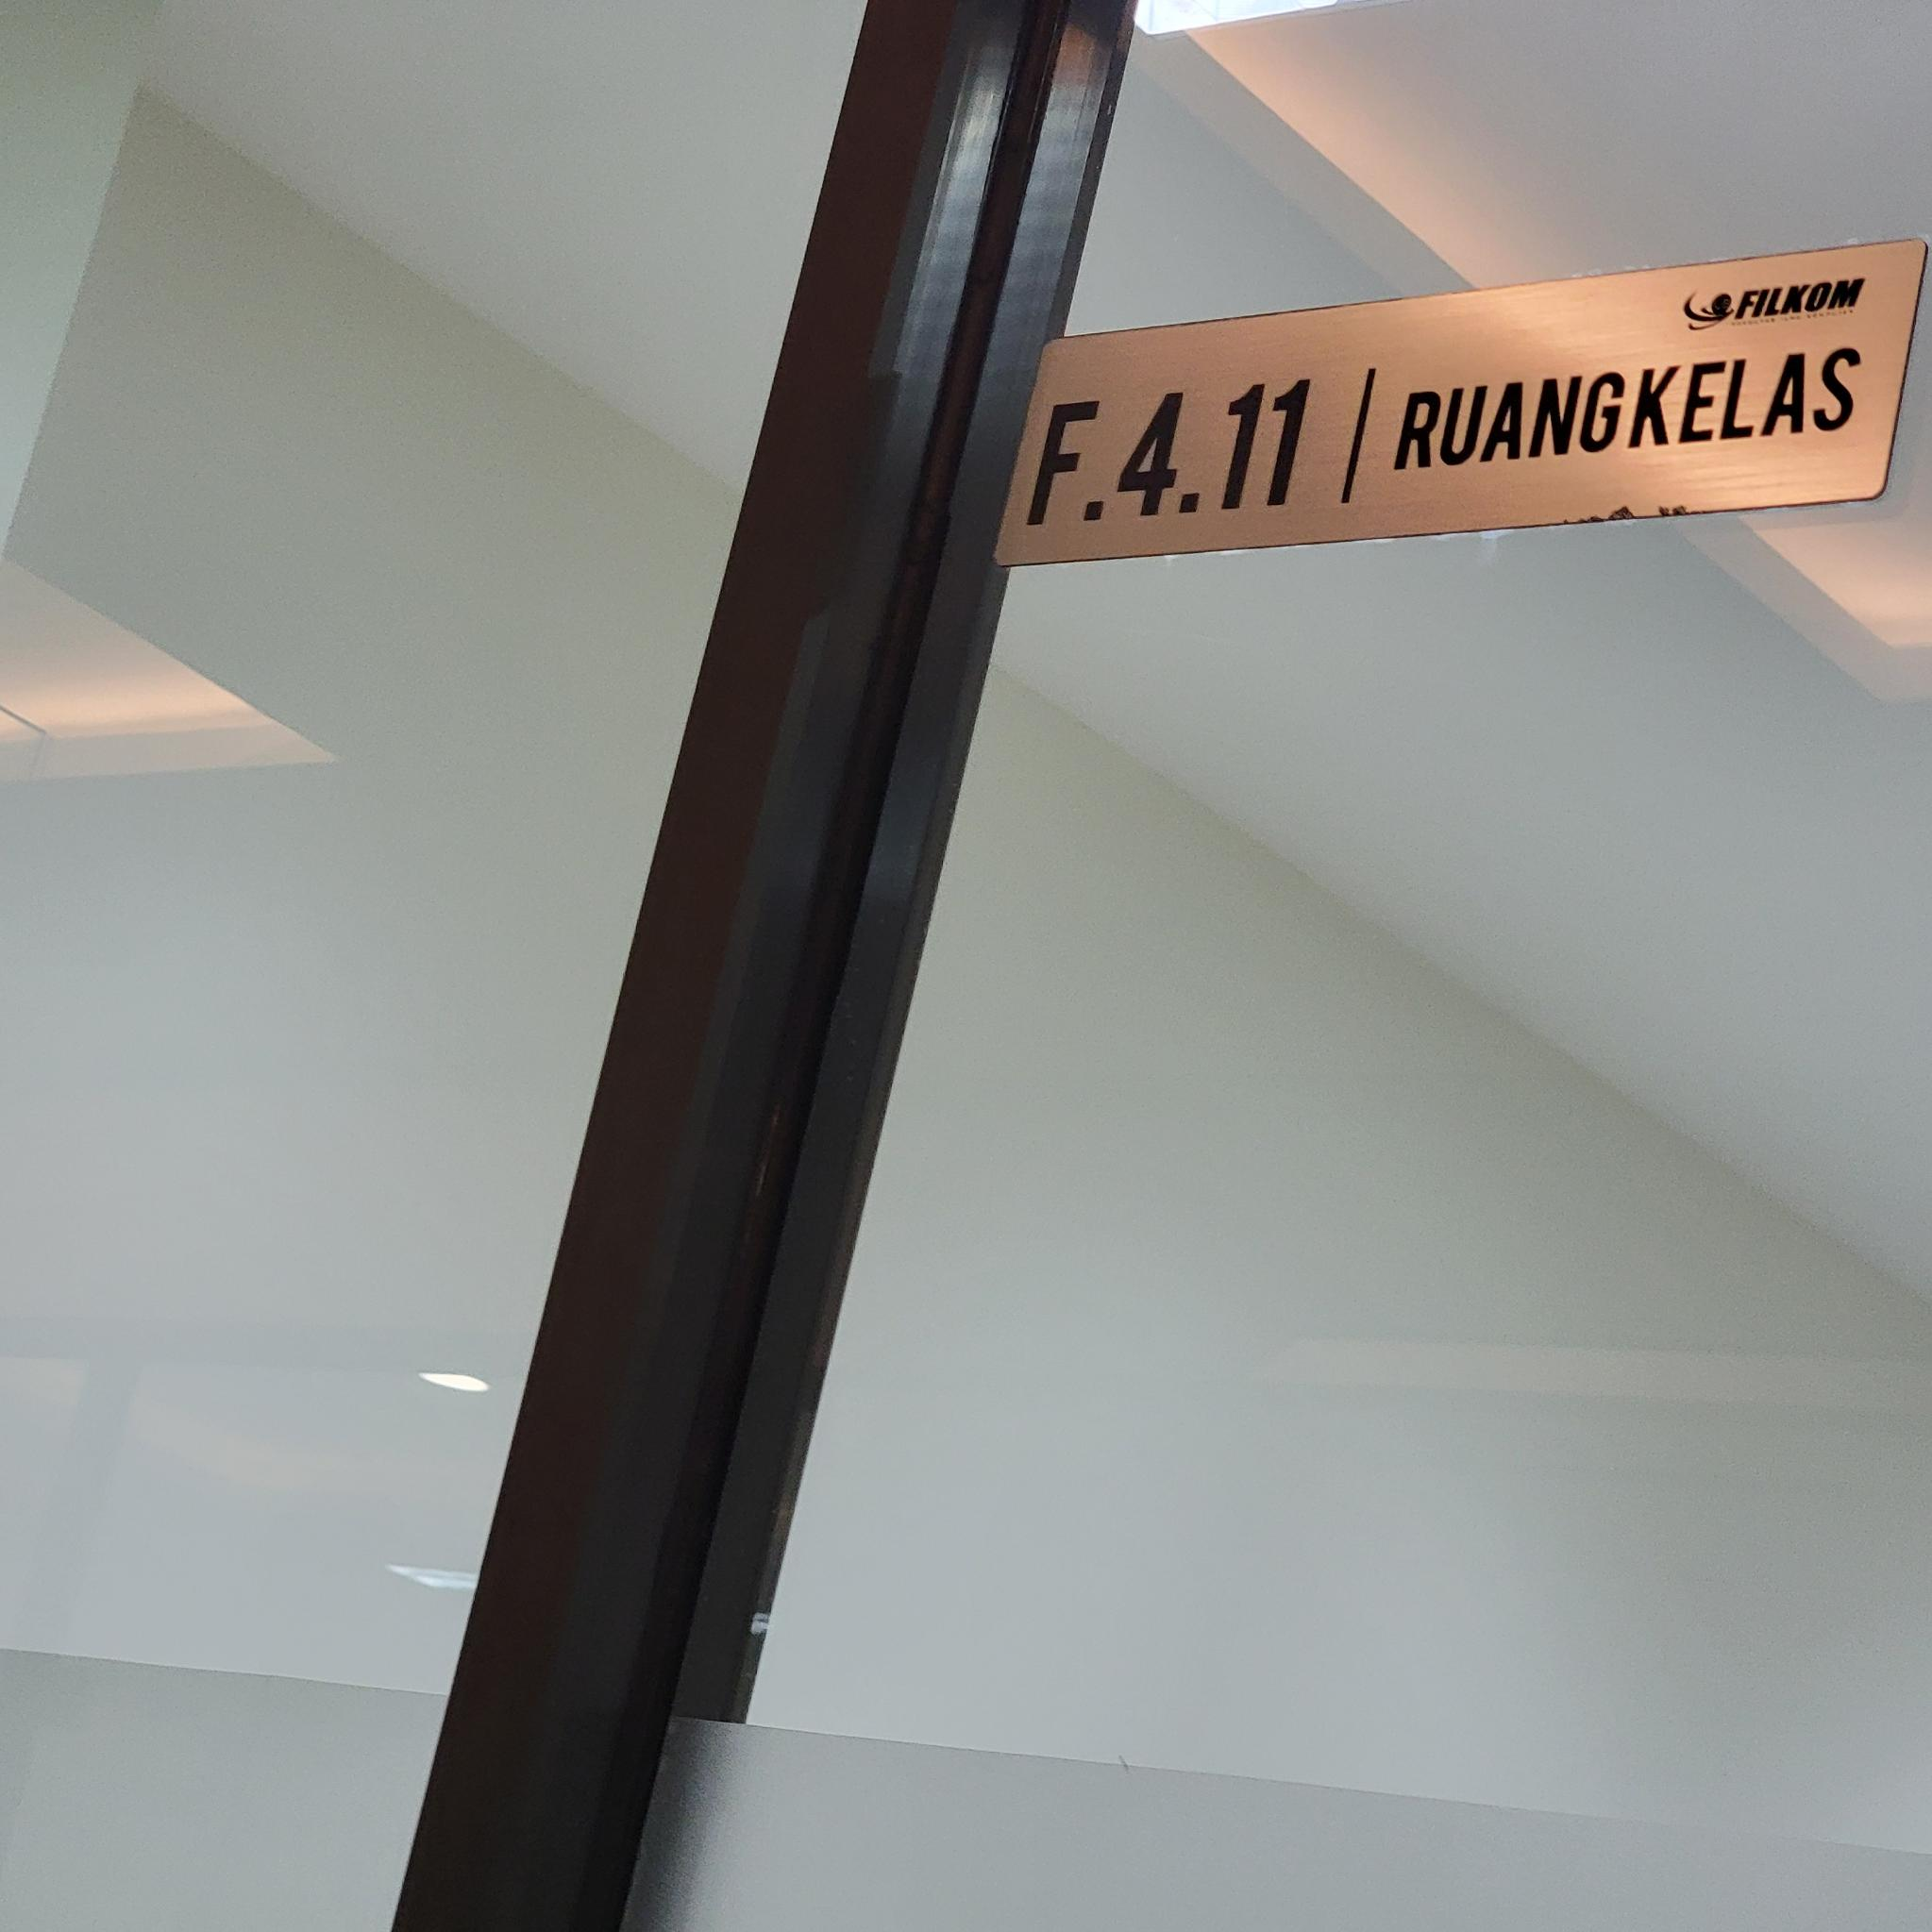plate: (989, 239, 1932, 568)
